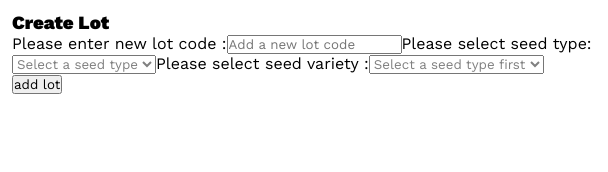
it: App component tests › shows the details in CreateLot
Expected: the heading "Create Lot" is shown, left=12, top=12, right=109, bottom=34
// checks user event and text that then appears
Click the button: (37, 84) left=12, top=75, right=62, bottom=94
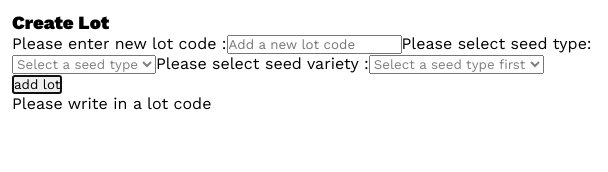
Expected: the text "Please write in a lot code" is shown, left=12, top=94, right=211, bottom=113
